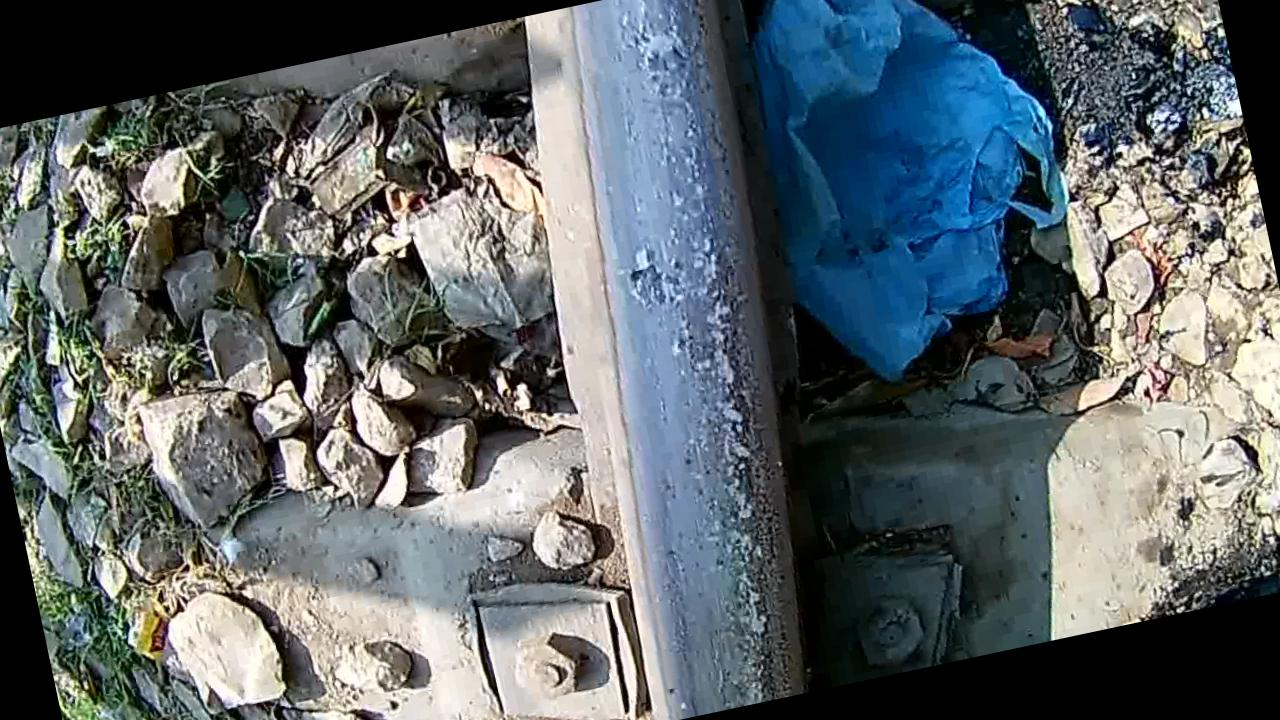crack: (535, 0, 868, 717)
